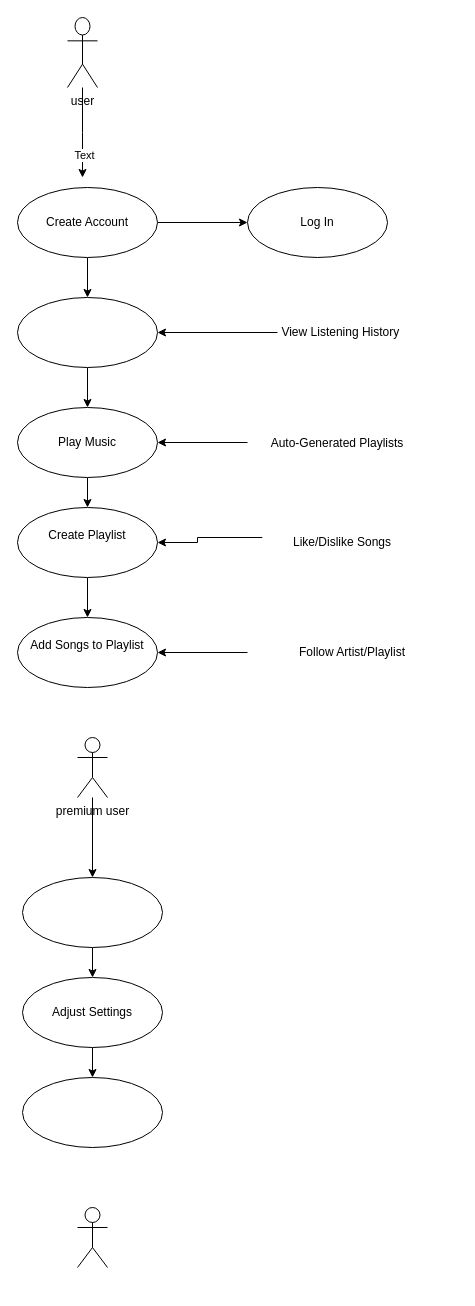
This 475x1306 diagram has some shape labels left out. Each missing label, with the box of its shape:
Download Music (Premium Users only): (22, 876, 162, 948)
Log Out: (22, 1076, 162, 1148)
Search for Music: (16, 296, 158, 368)
system spotify server: (76, 1206, 108, 1268)
